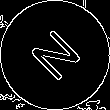N_SE: (23, 23, 87, 87)
